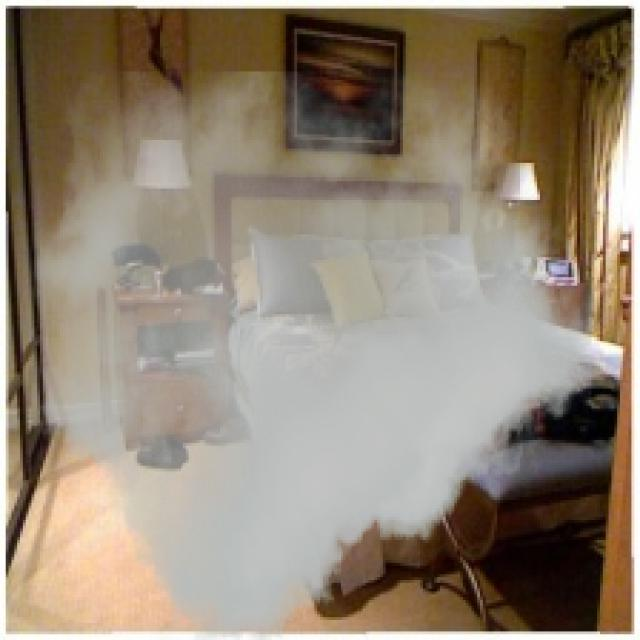smoke: (32, 72, 594, 637)
